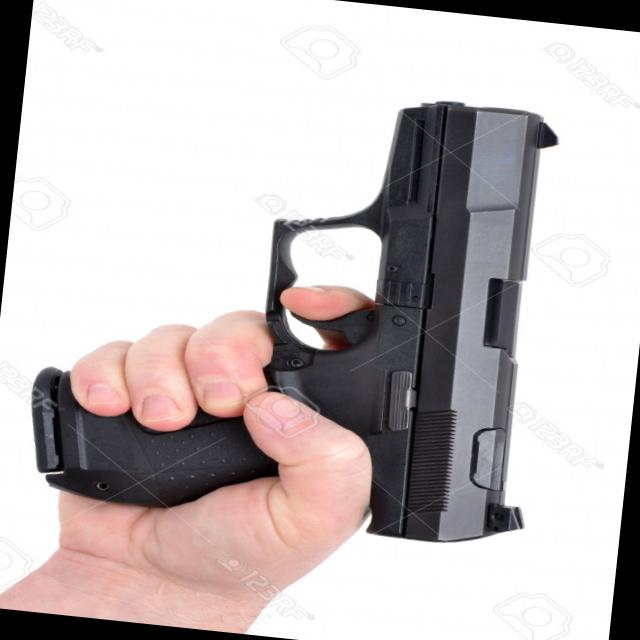handgun: (18, 59, 564, 556)
